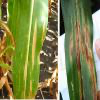Corn leaf blight: (11, 1, 49, 99), (62, 1, 97, 99)
